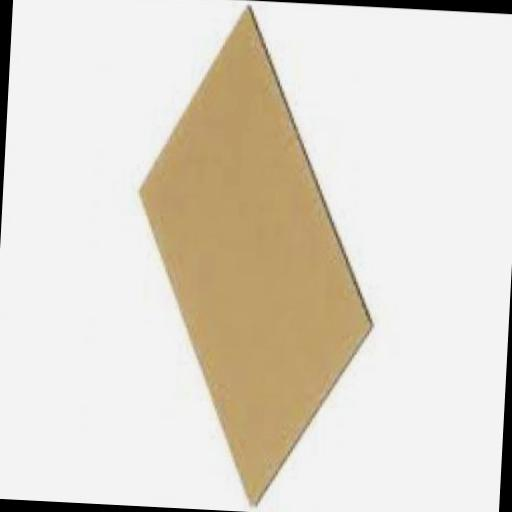cardboard: (119, 1, 386, 512)
